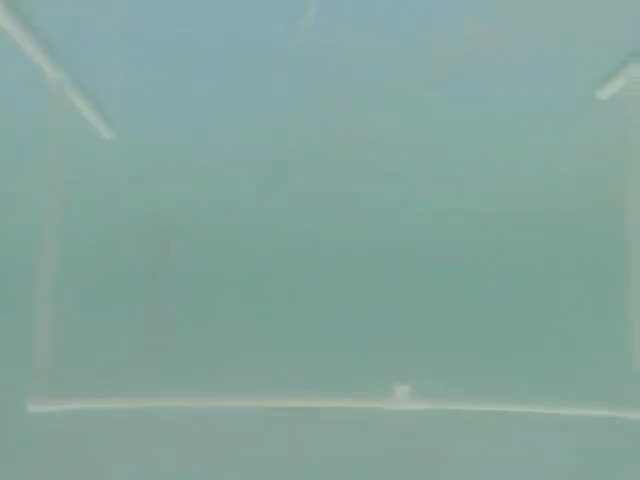gate: (5, 10, 639, 423)
